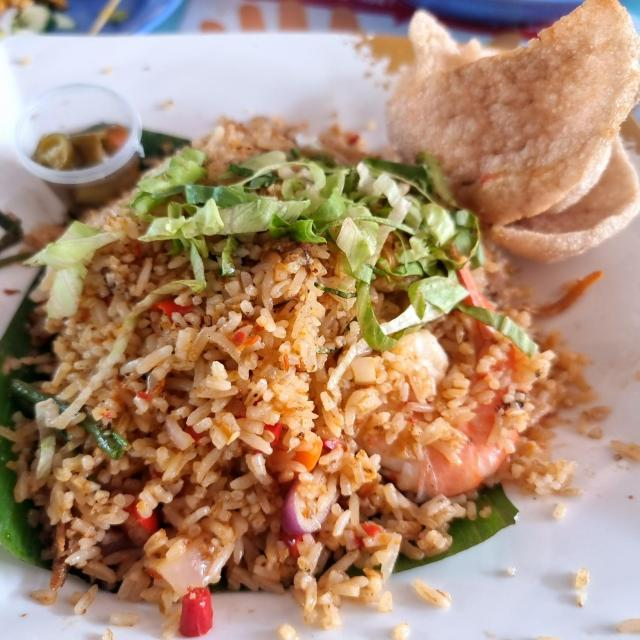Nasi Goreng: (3, 132, 560, 632)
